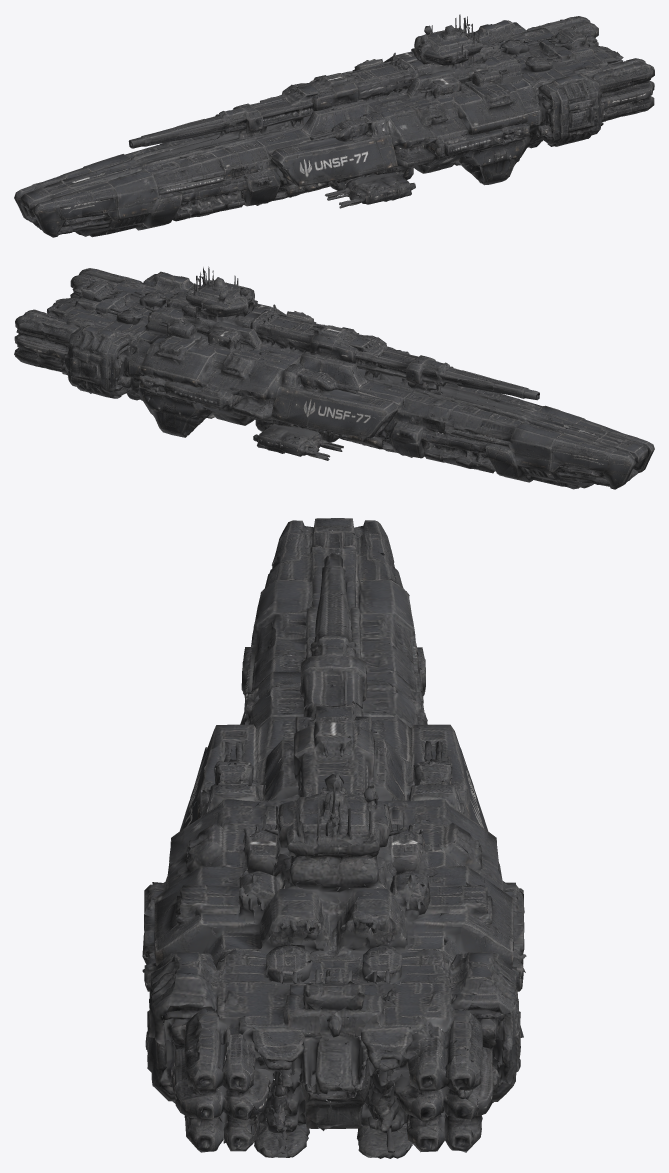
Rendered from 공성함.glb.
3 views of the same model, one above another, from view 1: azimuth 30°, elevation 25°; view 2: azimuth 150°, elevation 25°; view 3: azimuth 270°, elevation 25° (orthographic). The views are drawn at different scales.
Visible parts, largest first — view 1: Mesh_0; view 2: Mesh_0; view 3: Mesh_0.
Part boxes in pixels (bbox=[...]): Mesh_0: bbox=[14, 14, 654, 237]; Mesh_0: bbox=[14, 266, 654, 489]; Mesh_0: bbox=[142, 518, 526, 1158].
Size of the model in its own units: 1.91 by 0.4444 by 0.5321.
1 material, 1 textured.
